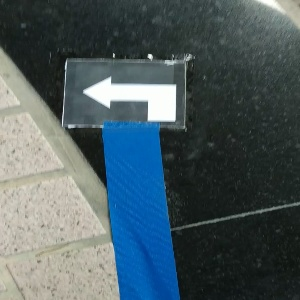left: (63, 59, 184, 128)
